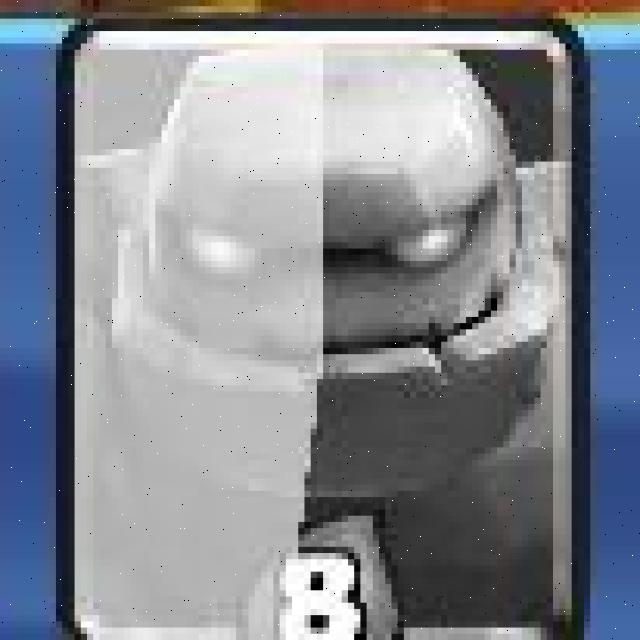Golem: (64, 20, 585, 640)
